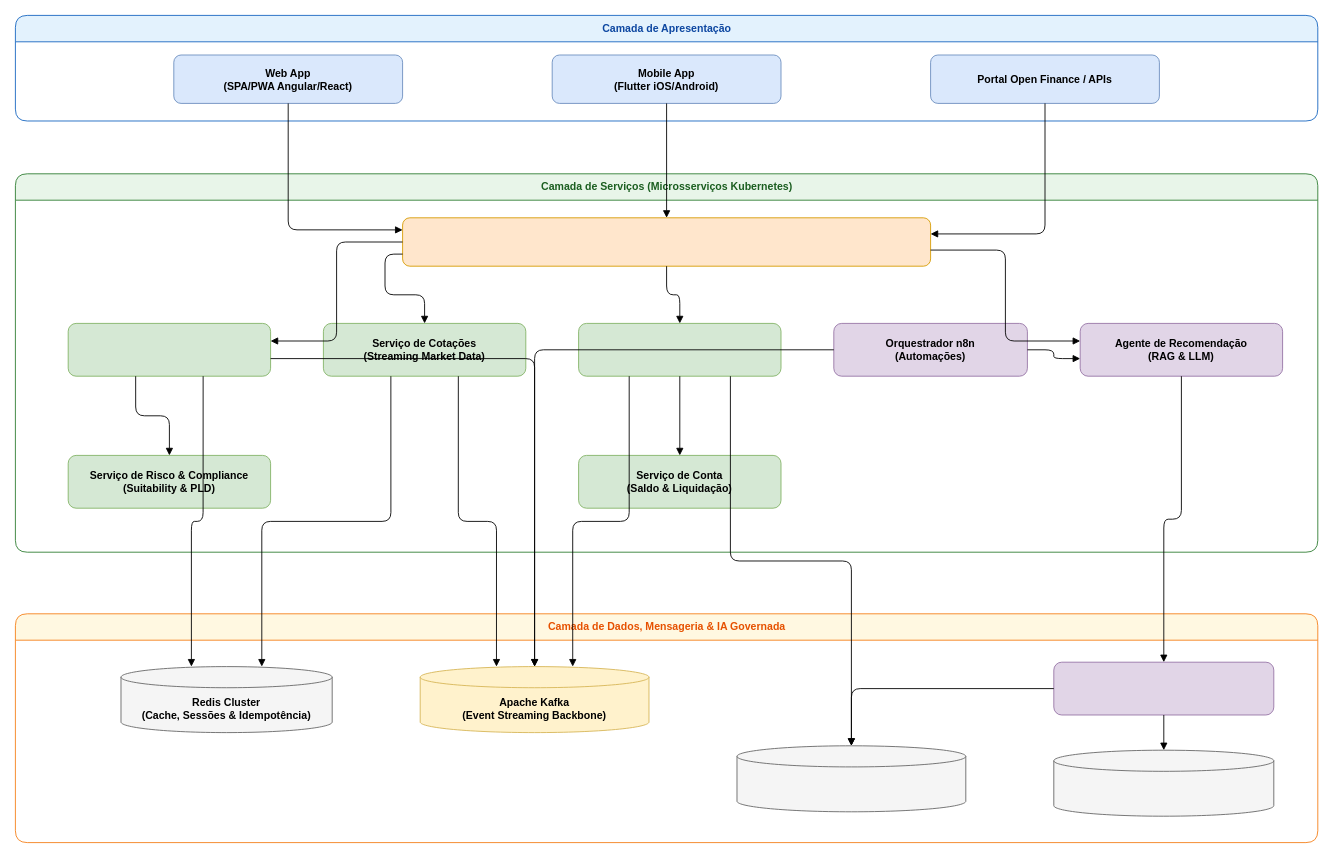
The diagram is 1333 pixels wide and 858 high, and some of its shapes have lost their labels. Each missing label, with the centre of its shape:
API Gateway + BFF (AuthN/AuthZ OIDC/JWT & Rate Limit): point (666, 241)
PostgreSQL OLTP (Primário + Réplicas PgBouncer): point (851, 778)
Servidores MCP (Model Context Protocol): point (1163, 688)
Serviço de Carteira (CQRS & Posicionamento): point (679, 349)
Serviço de Ordens (Validação & Idempotência): point (169, 349)
Vector DB / Data Lake (RAG & Analytics): point (1163, 782)
